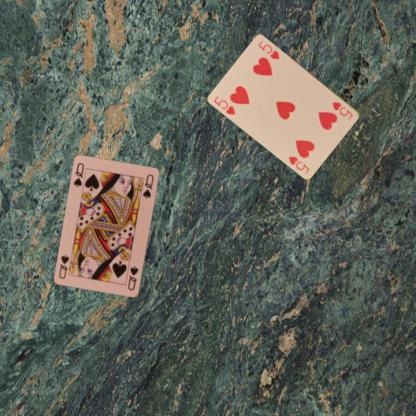5h: (211, 94, 237, 116), (330, 99, 354, 121)
Qs: (125, 264, 140, 292), (71, 161, 86, 188)
